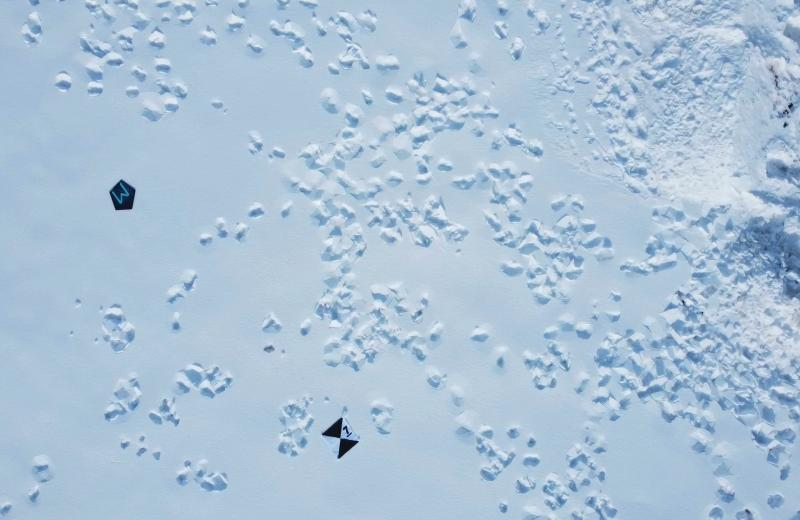Pentagon: (107, 178, 136, 212)
